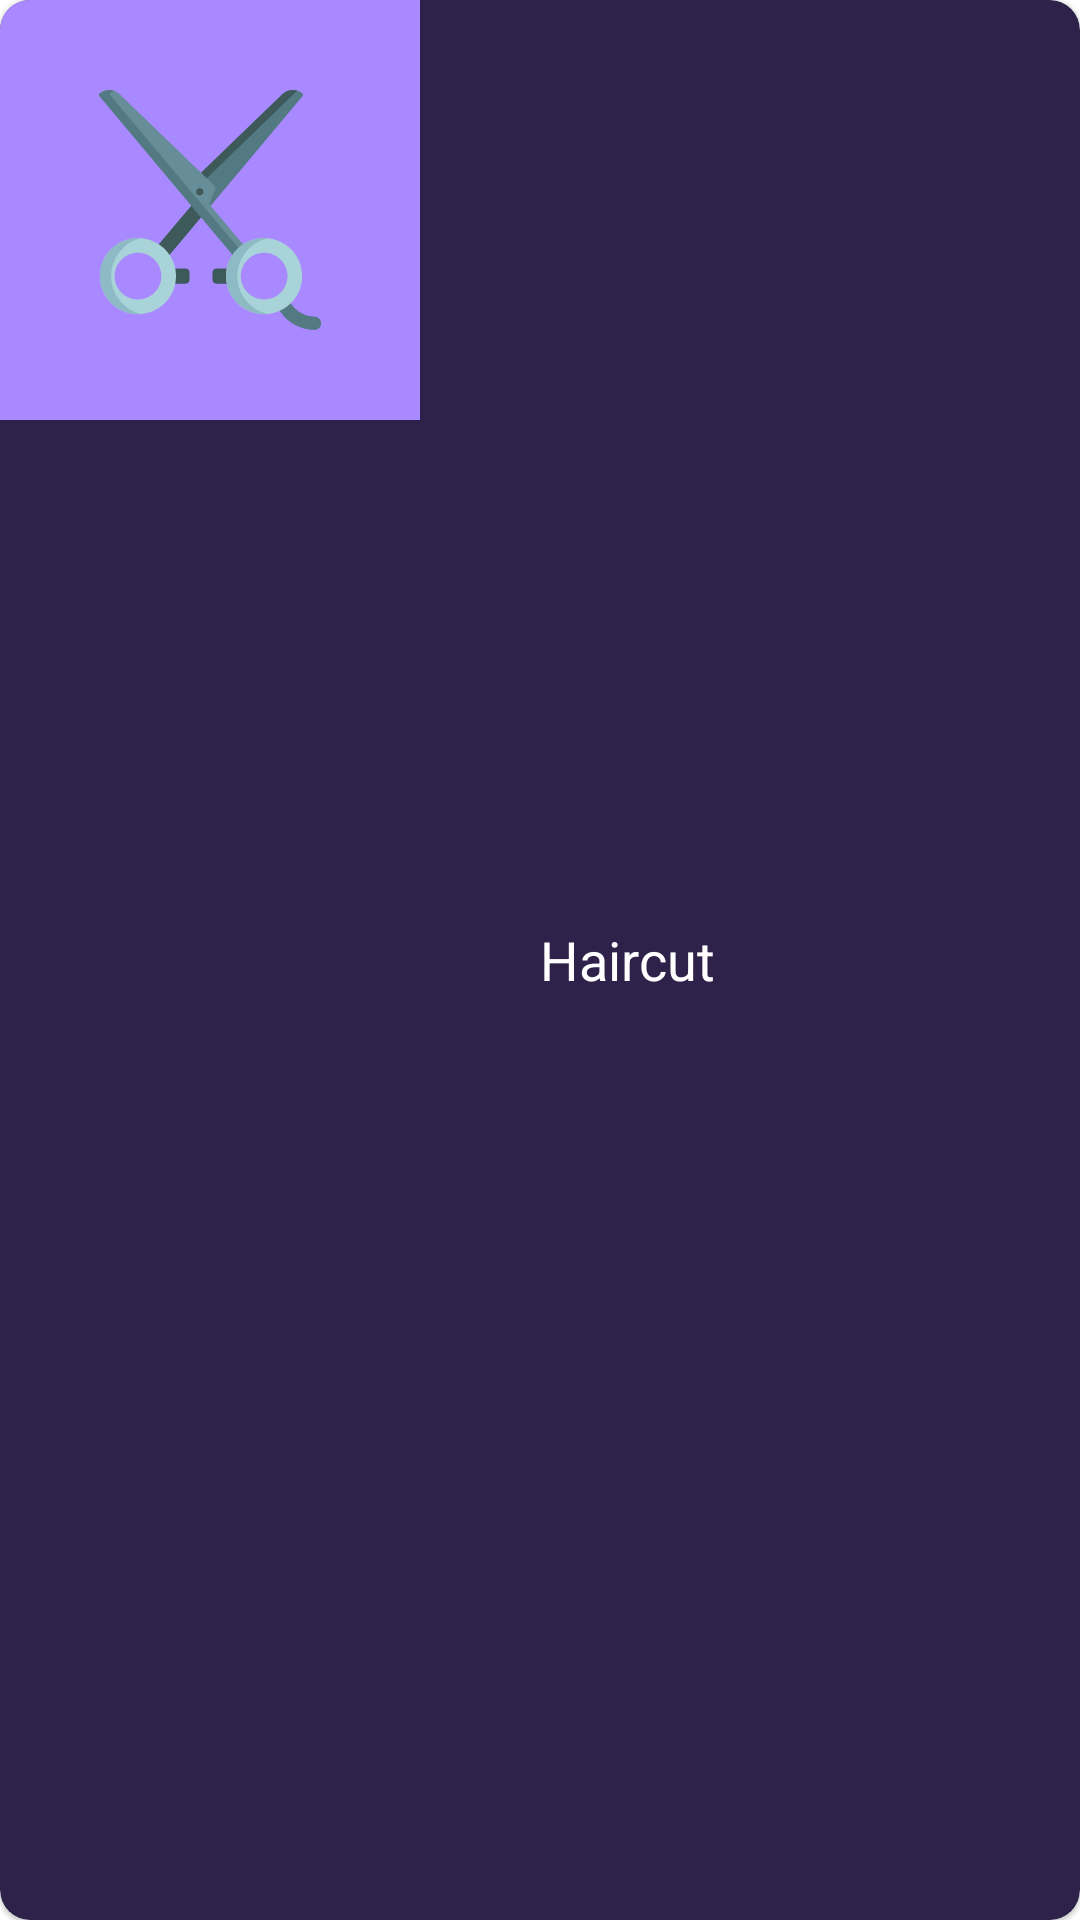

Icon click points for this 1080×1920 phone screenshot, format (x=x, y=y):
scissors: (x=210, y=210)
